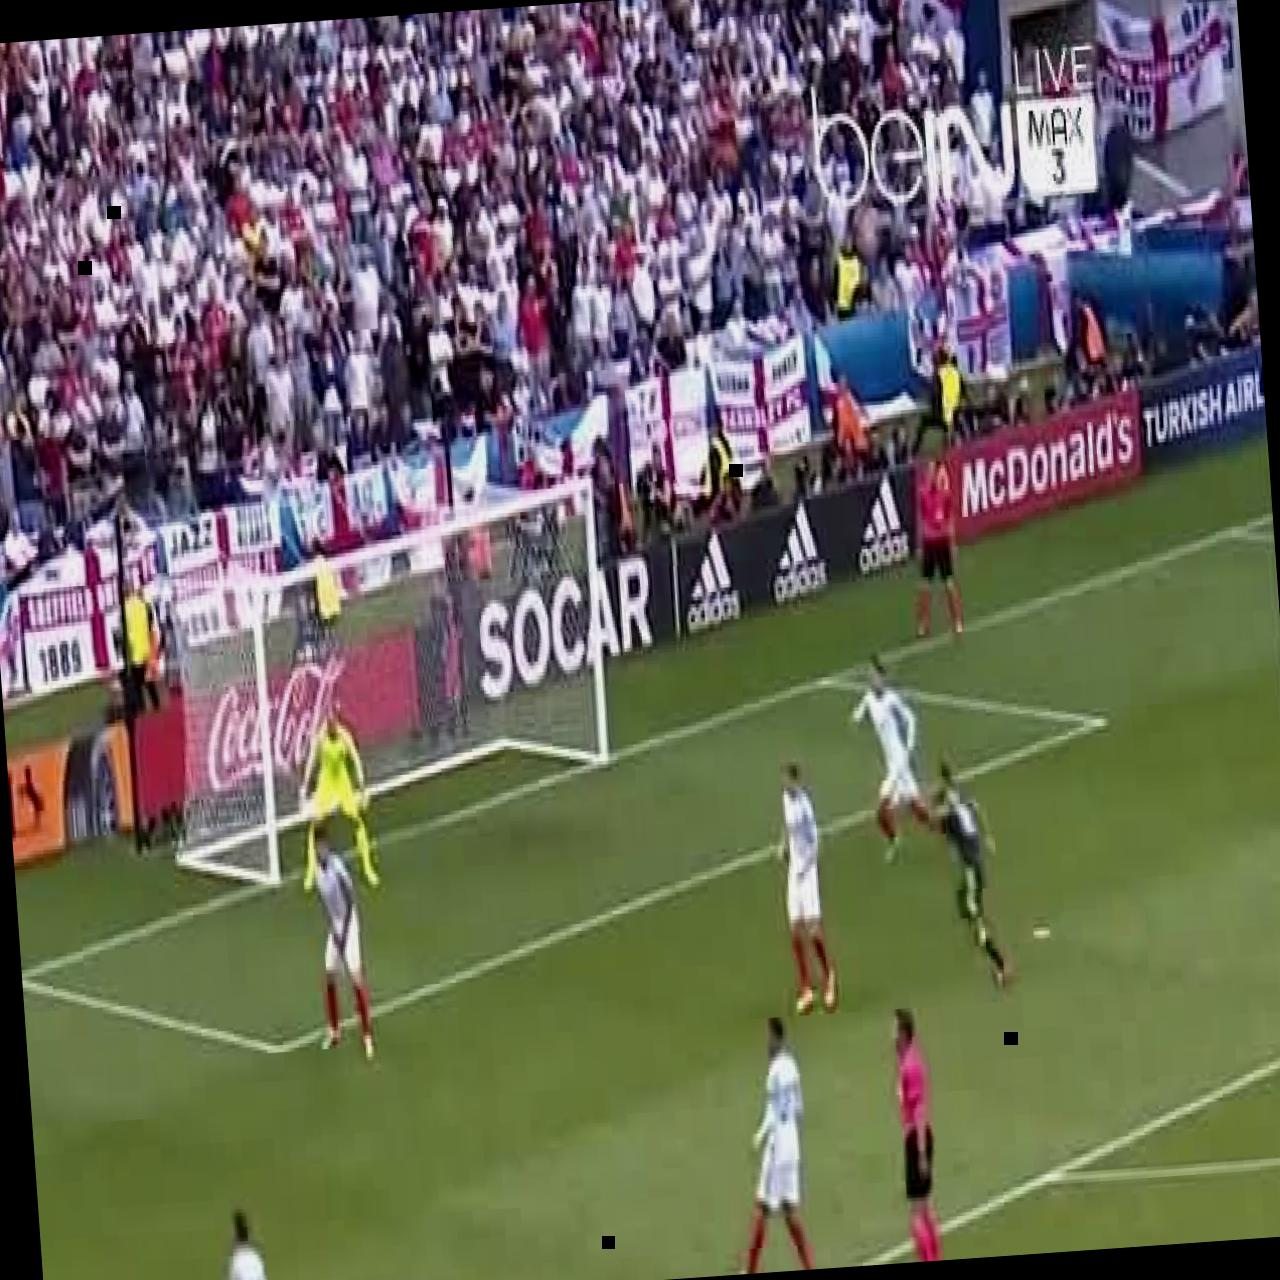football: (707, 1016, 817, 1276), (924, 757, 1008, 999), (851, 651, 943, 864), (305, 819, 377, 1066), (770, 756, 836, 1009), (292, 706, 380, 892), (884, 1007, 946, 1263), (906, 462, 964, 635), (206, 1209, 291, 1280)
